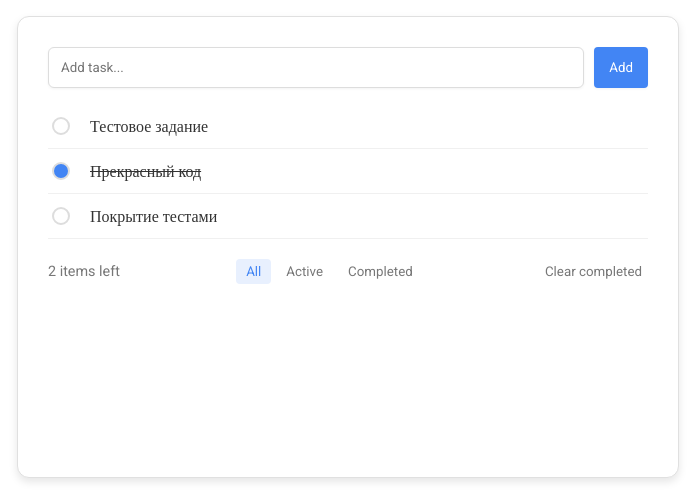
Scenario: App Component › should add a new task to the list
Type "New Test Task" into the field with placeholder "Add task..." at {"x": 316, "y": 68}, box 48,47 -> 584,88
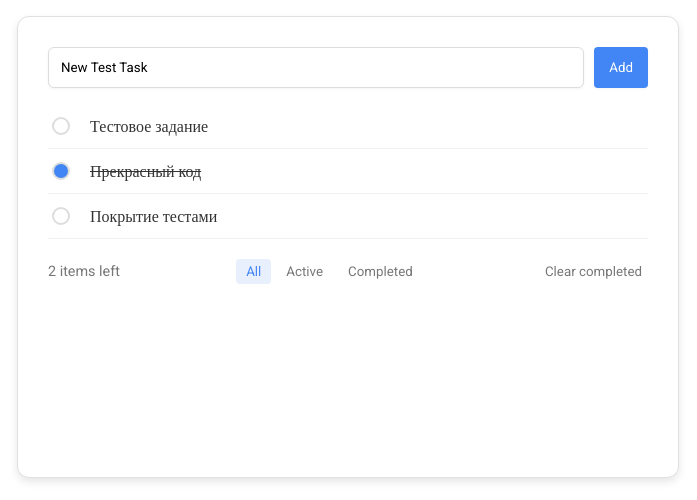
Click the button "Add" at {"x": 621, "y": 68}, box 594,47 -> 648,88
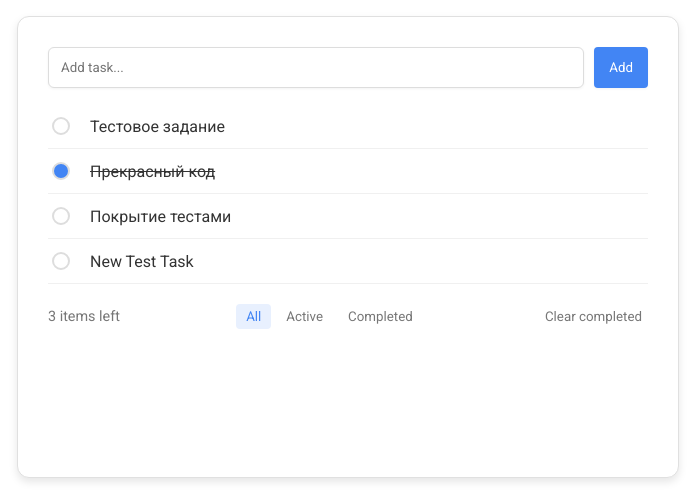
Result: the text "New Test Task" is shown at 90,252 -> 194,270
